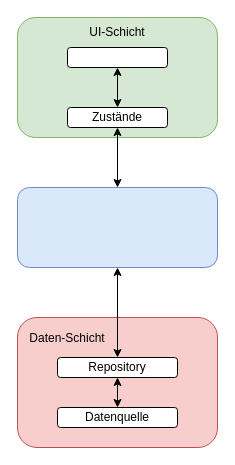
Image size: 235x465. Some labels were removed from this diagram. Here are the shapes that lost their labels. From the top down, the box of each, then its label:
(66, 46, 168, 68): UI-Elemente
(16, 186, 218, 268): Geschäftslogik-Schicht
